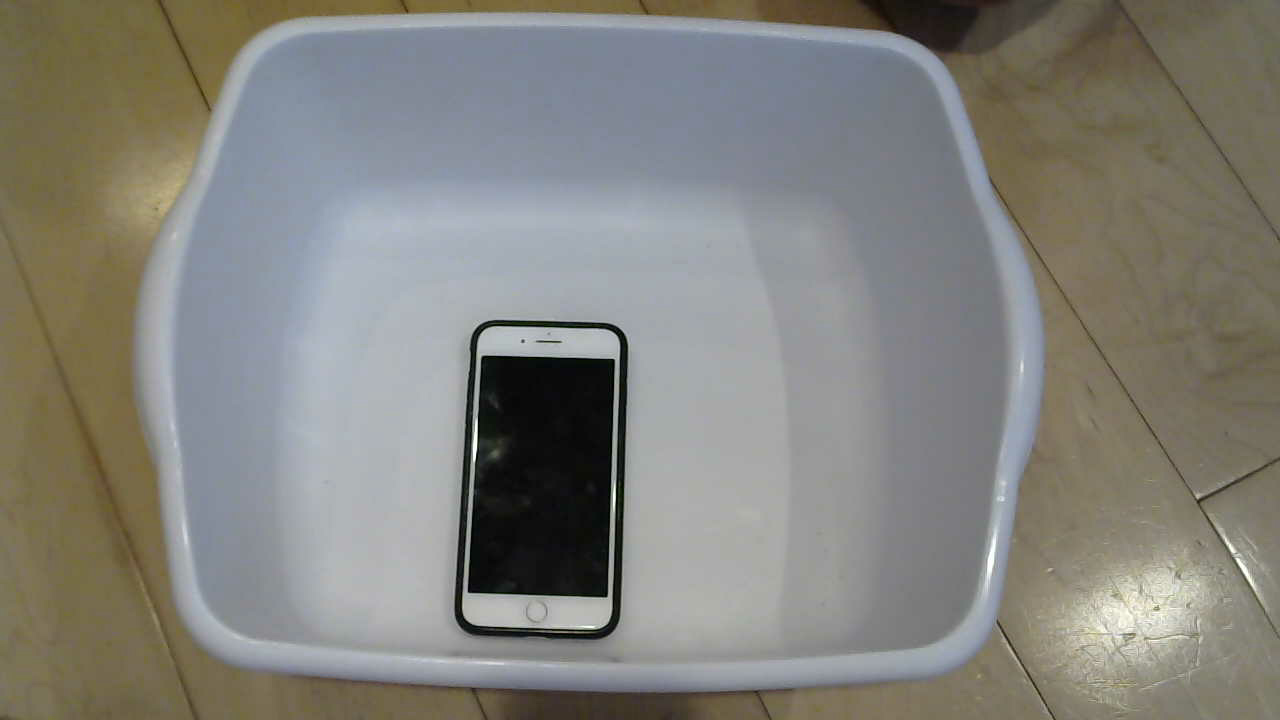phone: (448, 324, 655, 657)
